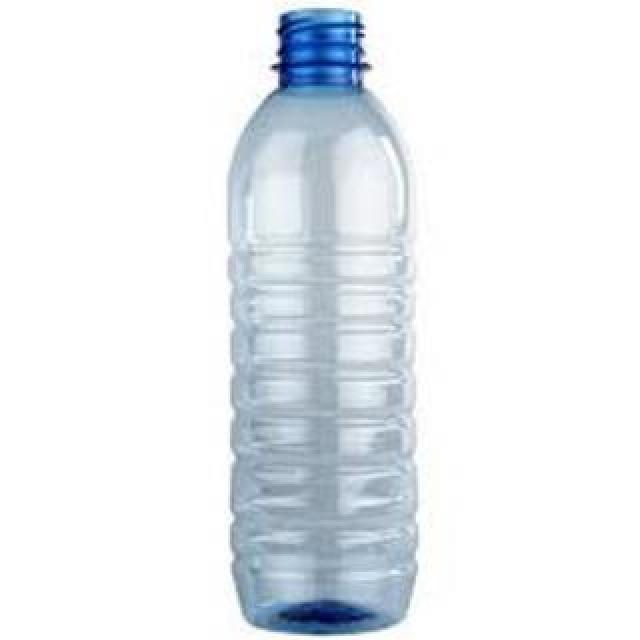Pet_Bottle: (225, 10, 419, 638)
